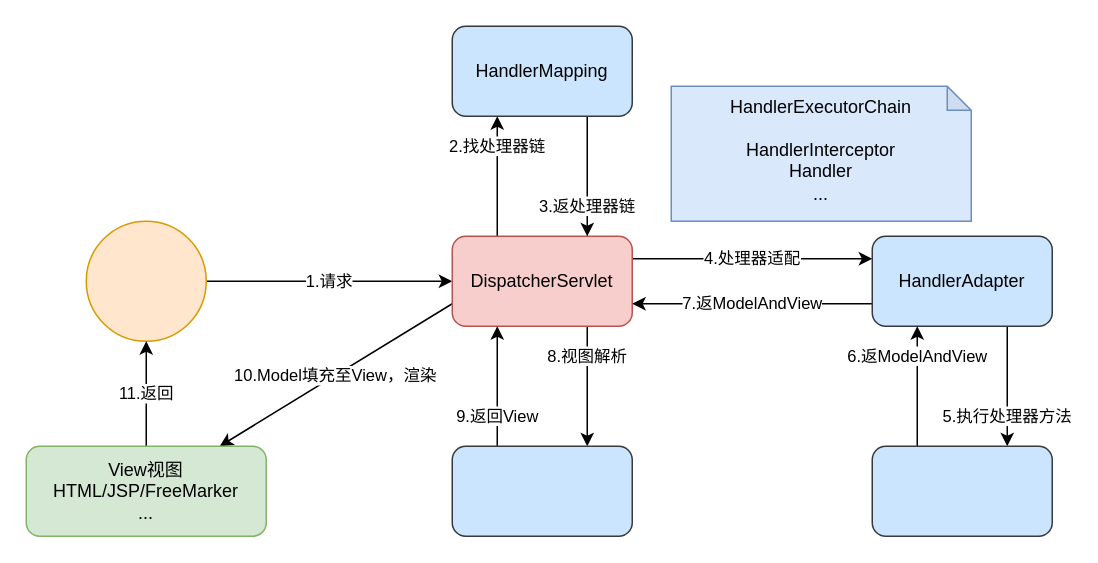
Some shapes in this 1098 by 563 pixel diagram are drawn without their labels. The shapes that lost their labels are listed below. From the top down, each one's centre as x and y in pixels, then its label:
At (145,280): "客户端".
At (541,490): "ViewResolve".
At (961,490): "Handler".
